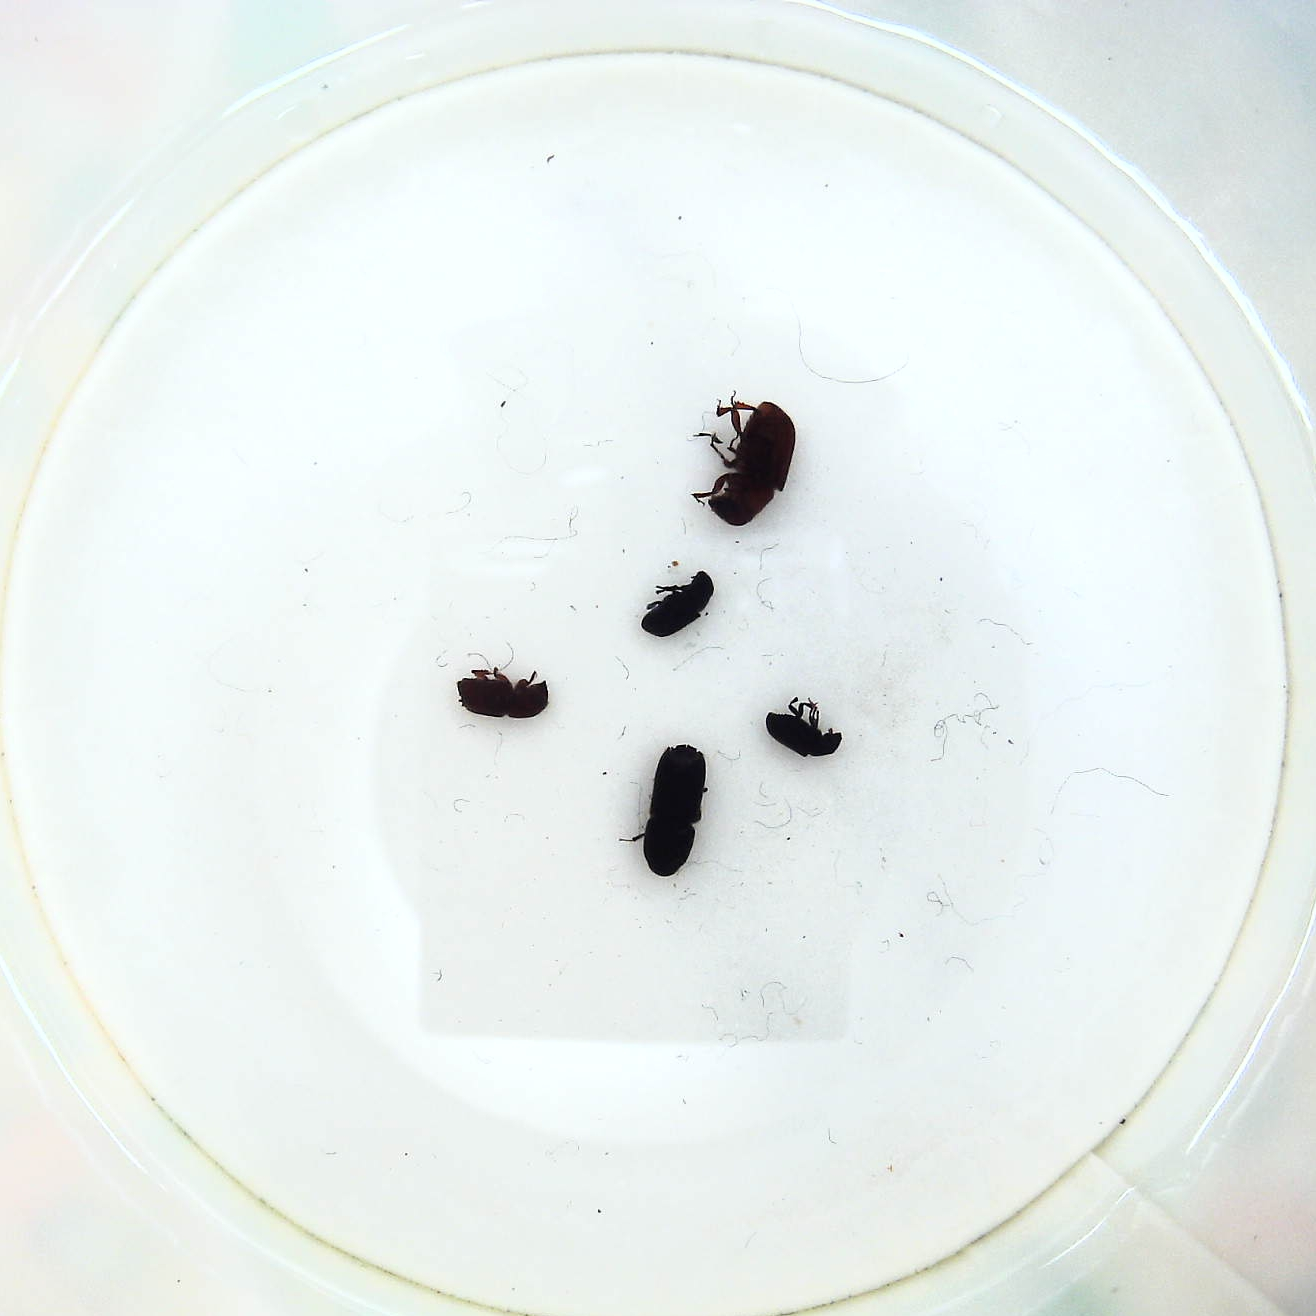Boerner: (624, 741, 713, 880)
Leconte: (685, 390, 799, 531)
armandi: (636, 563, 719, 644)
coleoptera: (763, 695, 841, 765)
linnaeus: (450, 663, 556, 724)
